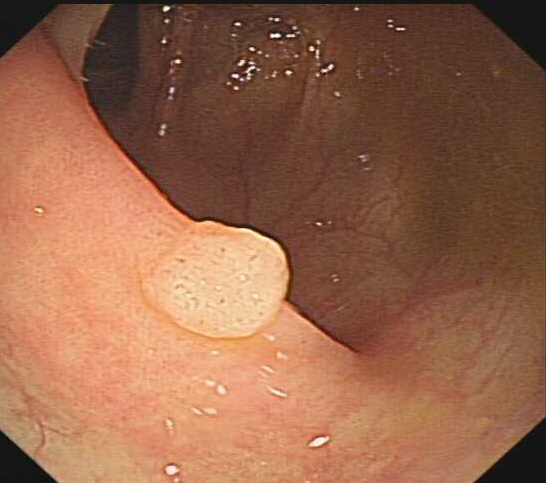adenoma: (139, 217, 293, 342)
